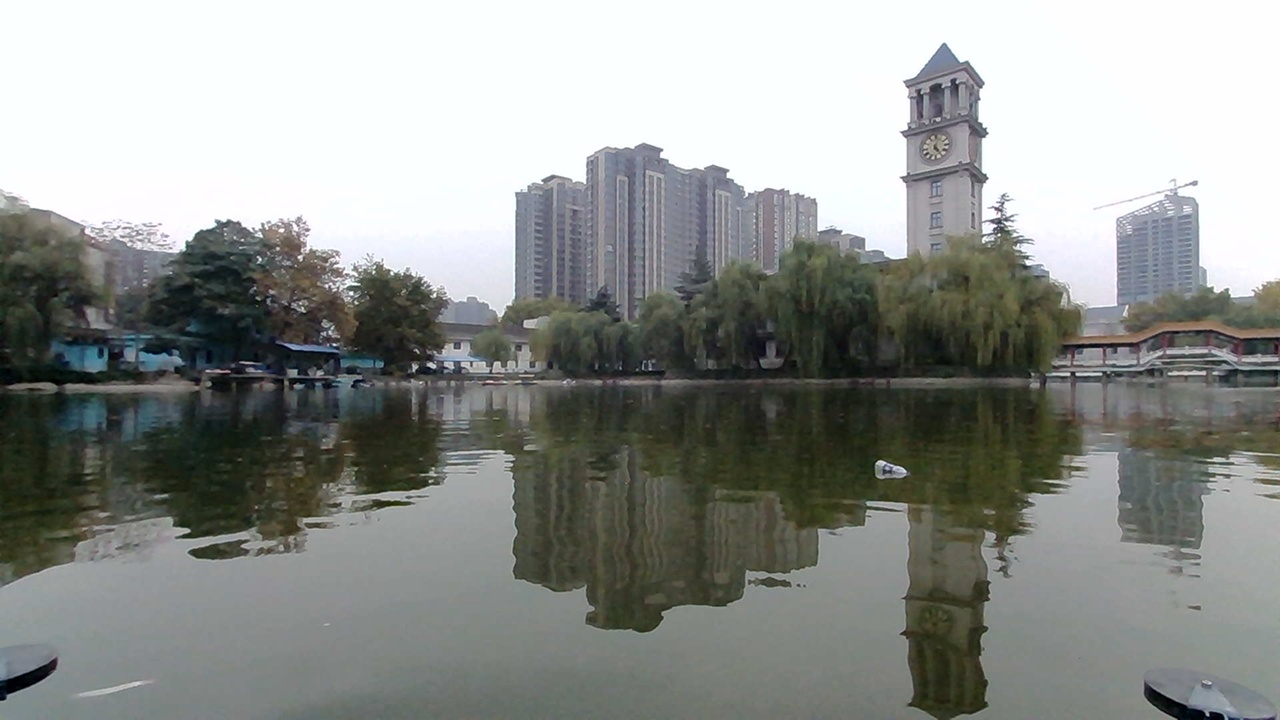bottle: (867, 455, 906, 485)
